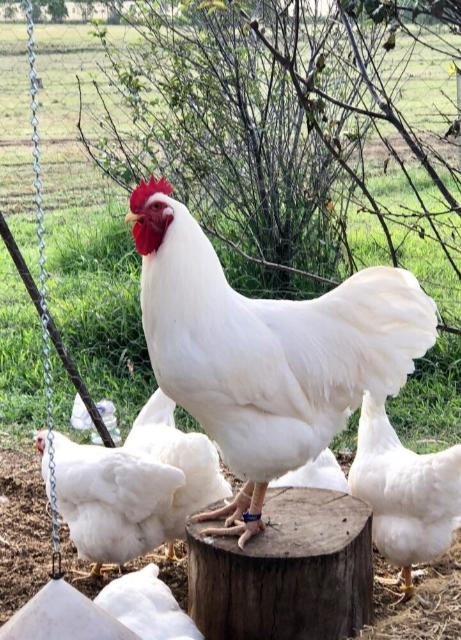Chicken: (122, 170, 440, 550), (33, 424, 186, 584), (348, 389, 461, 597)
